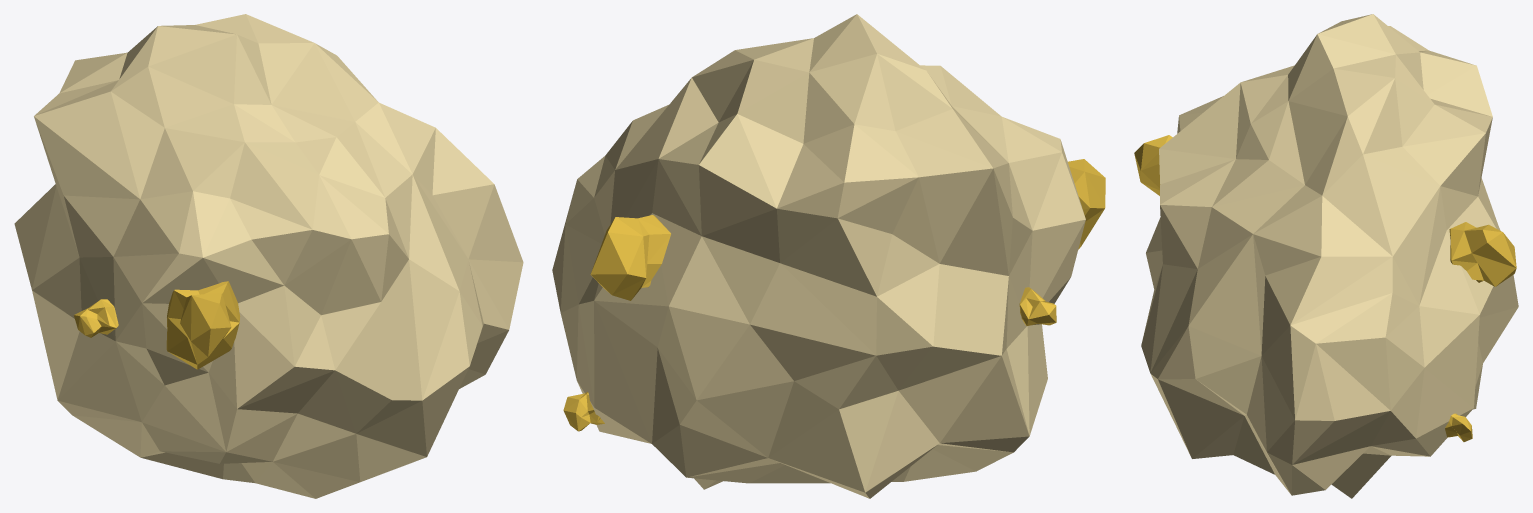
Rendered from MetalOre (41).fbx.
The picture shows the model from 3 angles, left to right: view 1: azimuth 30°, elevation 25°; view 2: azimuth 150°, elevation 25°; view 3: azimuth 270°, elevation 25°; orthographic projection. The views are drawn at different scales.
Visible parts, largest first — view 1: Asteroid396; view 2: Asteroid396; view 3: Asteroid396.
Part boxes in pixels (bbox=[...]): Asteroid396: bbox=[14, 14, 523, 498]; Asteroid396: bbox=[552, 14, 1105, 498]; Asteroid396: bbox=[1134, 14, 1518, 498].
Bounding box in the file's own units: 442 × 425 × 361.
